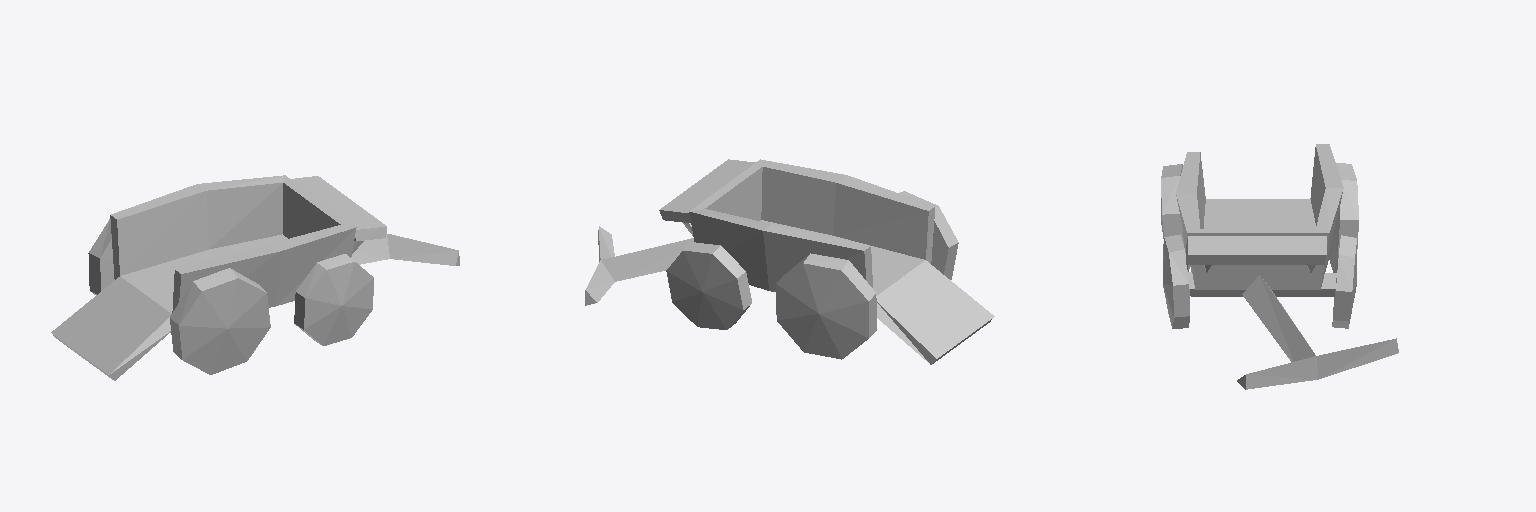
Rendered from westfallwagon01.obj.
3 views of the same model, side by side, from view 1: azimuth 30°, elevation 25°; view 2: azimuth 150°, elevation 25°; view 3: azimuth 270°, elevation 25° (orthographic).
Parts seen in each view (by area): view 1: WestfallWagon01; view 2: WestfallWagon01; view 3: WestfallWagon01.
Part boxes in pixels (x1,y1,x2,y2): WestfallWagon01: (51,175,459,380); WestfallWagon01: (585,159,994,364); WestfallWagon01: (1161,144,1398,389).
Size of the model in its own units: 9.12 by 2.57 by 5.03.